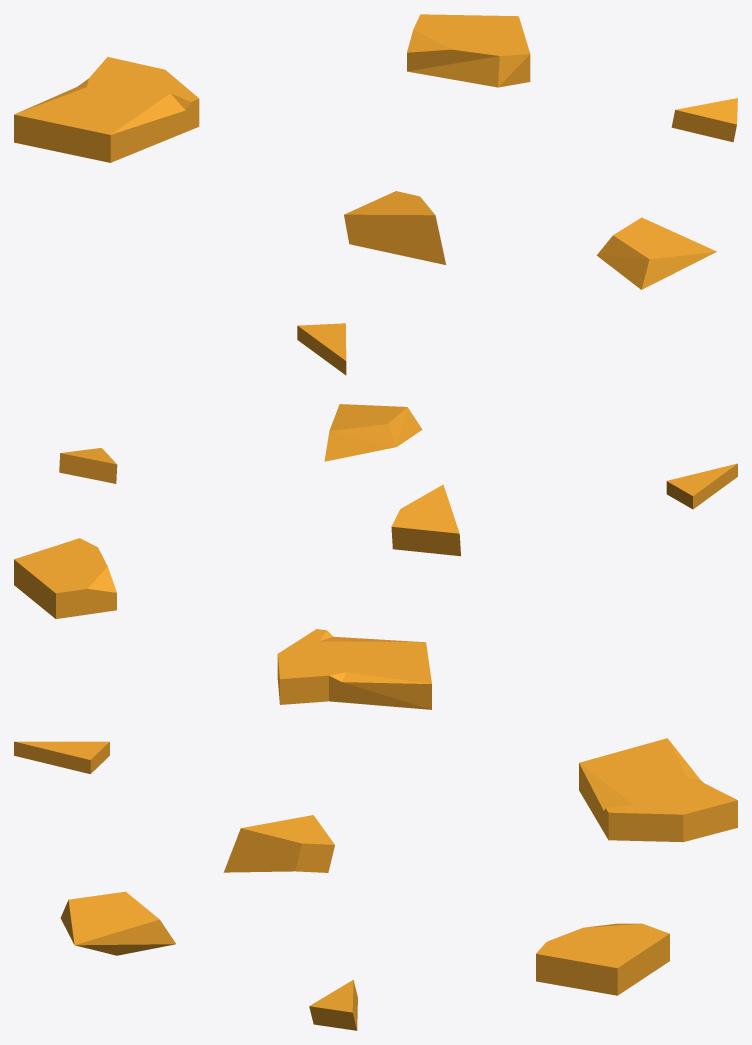
Rendered from SM_Iceberg_Shards_Small_A_Plane.fbx.
3 renders of one model, top to bottom at view 1: azimuth 30°, elevation 25°; view 2: azimuth 150°, elevation 25°; view 3: azimuth 270°, elevation 25°, orthographic. The views are drawn at different scales.
Visible parts, largest first — view 1: iceberg-shards-small-a-plane; view 2: iceberg-shards-small-a-plane; view 3: iceberg-shards-small-a-plane.
Part boxes in pixels (bbox=[...]): iceberg-shards-small-a-plane: bbox=[14, 14, 737, 375]; iceberg-shards-small-a-plane: bbox=[14, 404, 737, 709]; iceberg-shards-small-a-plane: bbox=[14, 738, 737, 1030].
Bounding box in the file's own units: 1.69 × 0.1347 × 1.91.
